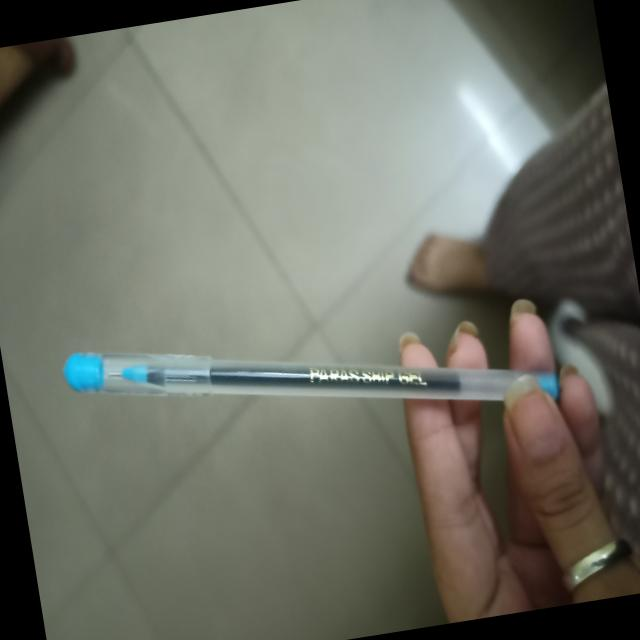pen: (38, 313, 575, 468), (43, 329, 564, 437)
